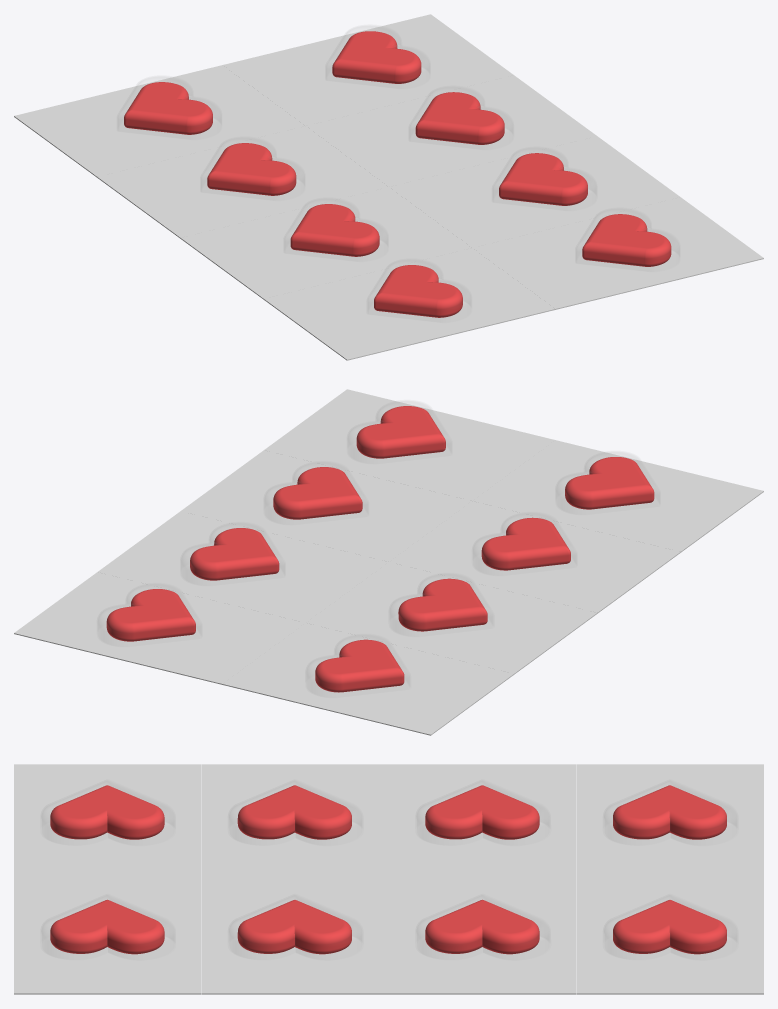
Rendered from Heart_Pill_2x4_Red.glb.
3 views of the same model, one above another, from view 1: azimuth 30°, elevation 25°; view 2: azimuth 150°, elevation 25°; view 3: azimuth 270°, elevation 25° (orthographic). The views are drawn at different scales.
Visible parts, largest first — view 1: Heart_Pill_Base_2x4, Heart_Pill_2x4, Heart_Pill_Shell_2x4, Heart_Pill_Lid_2x4; view 2: Heart_Pill_Base_2x4, Heart_Pill_2x4, Heart_Pill_Shell_2x4, Heart_Pill_Lid_2x4; view 3: Heart_Pill_Base_2x4, Heart_Pill_2x4, Heart_Pill_Lid_2x4, Heart_Pill_Shell_2x4.
Part boxes in pixels (<box>): Heart_Pill_Base_2x4: <box>14,14,763,360</box>; Heart_Pill_2x4: <box>124,31,671,317</box>; Heart_Pill_Shell_2x4: <box>117,25,679,311</box>; Heart_Pill_Lid_2x4: <box>116,48,680,323</box>; Heart_Pill_Base_2x4: <box>14,389,763,735</box>; Heart_Pill_2x4: <box>106,406,654,692</box>; Heart_Pill_Shell_2x4: <box>97,400,659,686</box>; Heart_Pill_Lid_2x4: <box>96,442,660,698</box>; Heart_Pill_Base_2x4: <box>14,764,763,994</box>; Heart_Pill_2x4: <box>50,785,726,954</box>; Heart_Pill_Lid_2x4: <box>40,821,738,960</box>; Heart_Pill_Shell_2x4: <box>41,780,737,942</box>.
Bounding box in the file's own units: 6.8 × 0.336 × 9.41.
